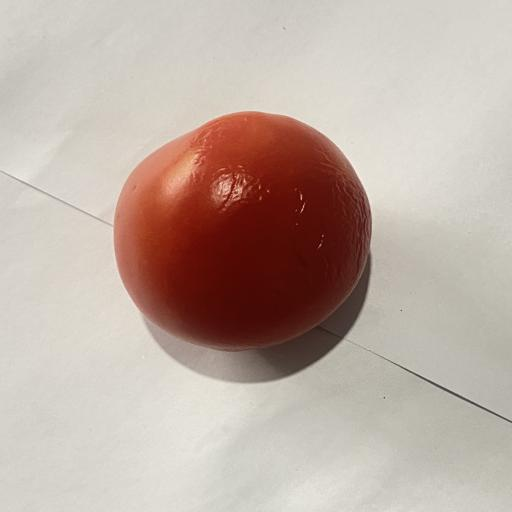spoiled: (113, 112, 371, 350)
